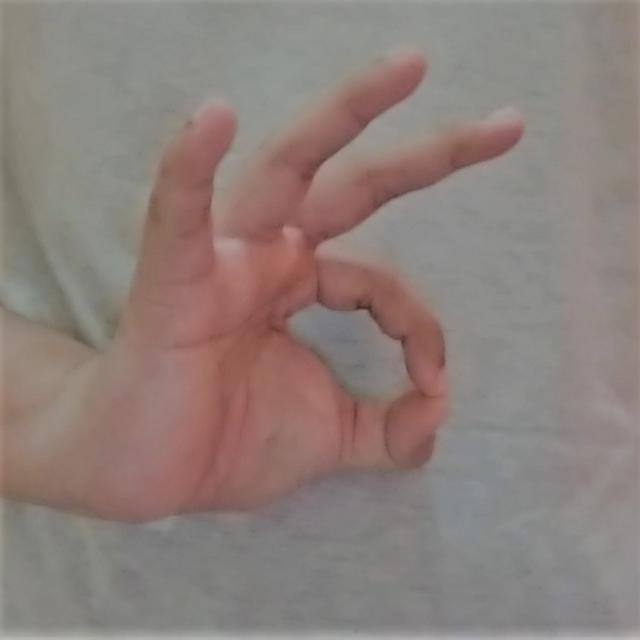O: (97, 37, 530, 528)
